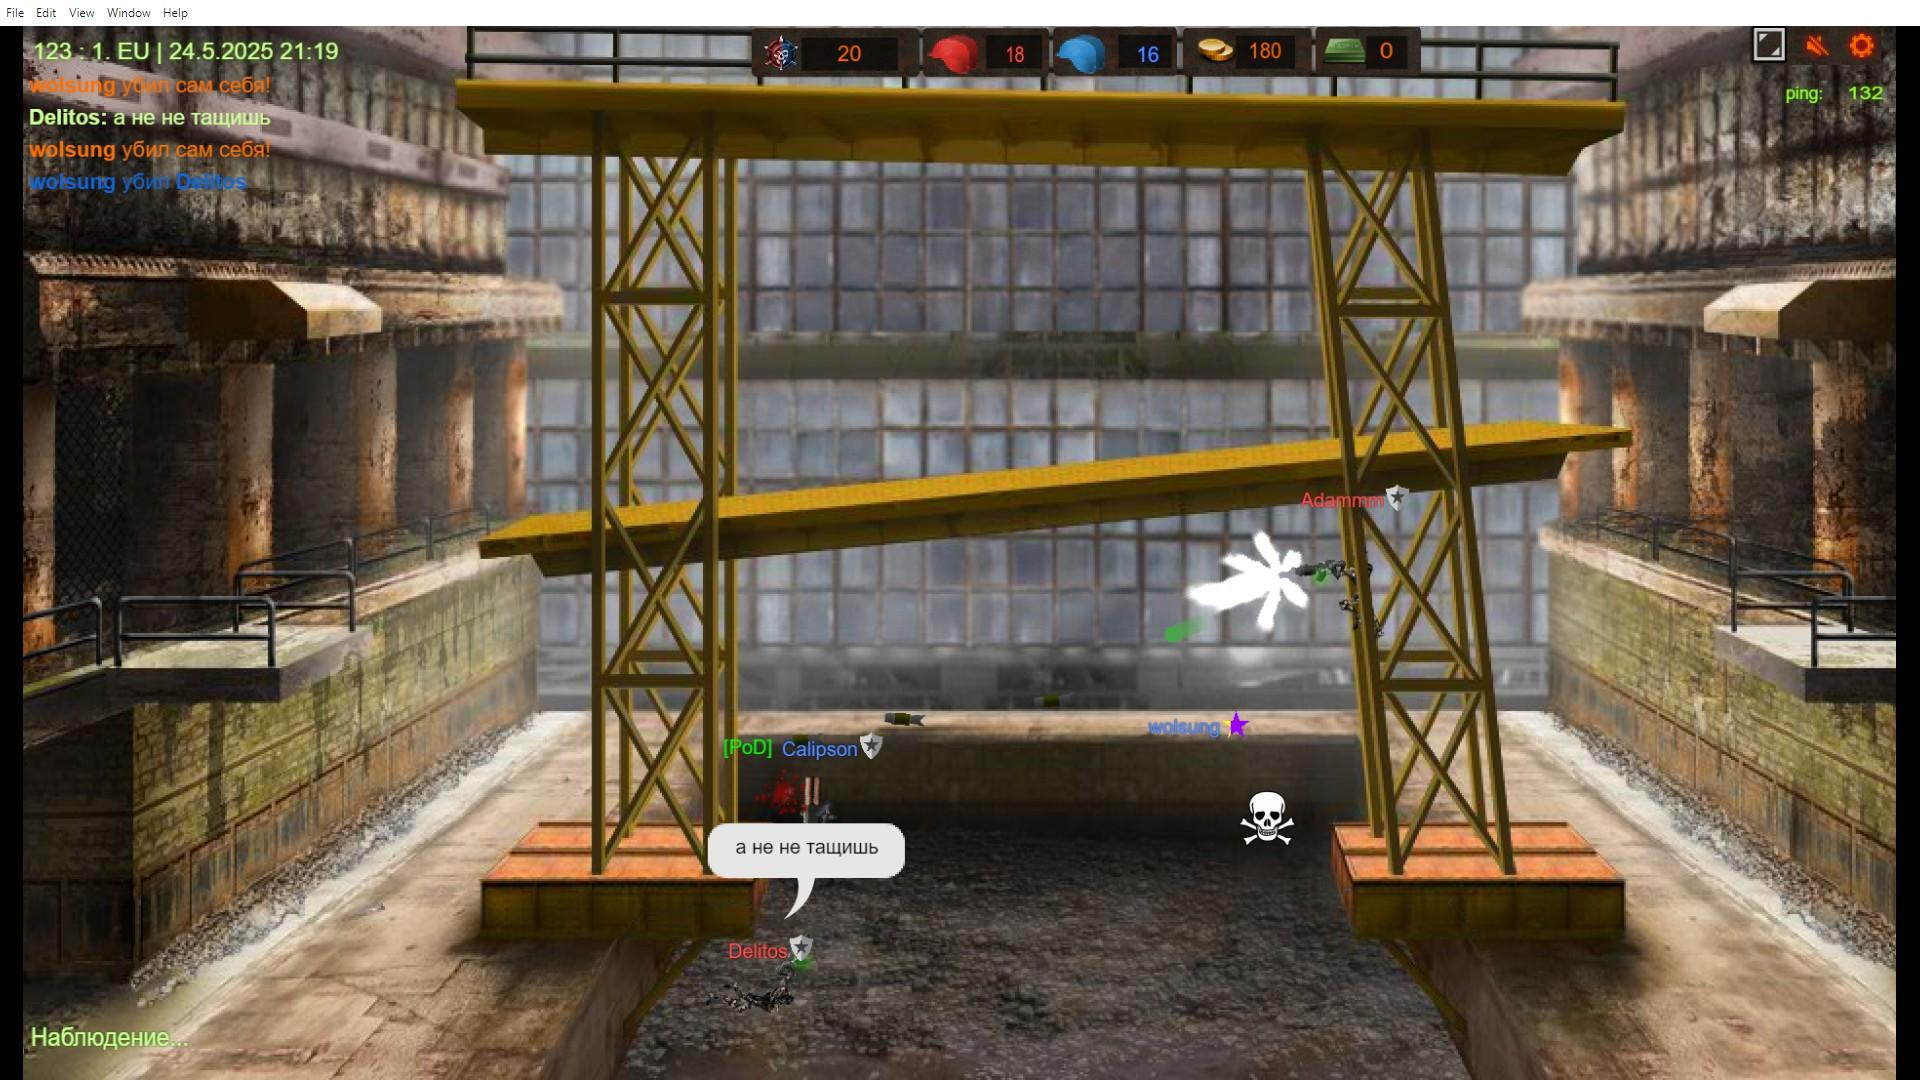enemy: (711, 982, 793, 1017), (1344, 554, 1375, 633), (799, 787, 828, 866)
